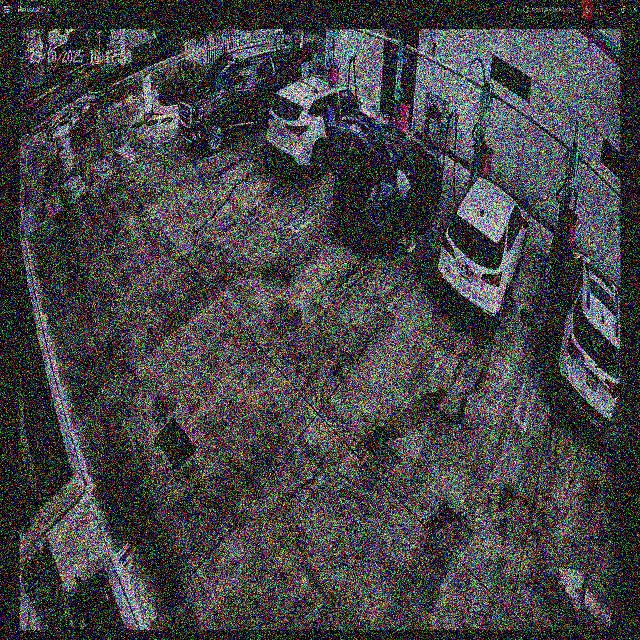Car: (334, 114, 445, 251), (438, 179, 528, 326), (268, 73, 378, 176)
